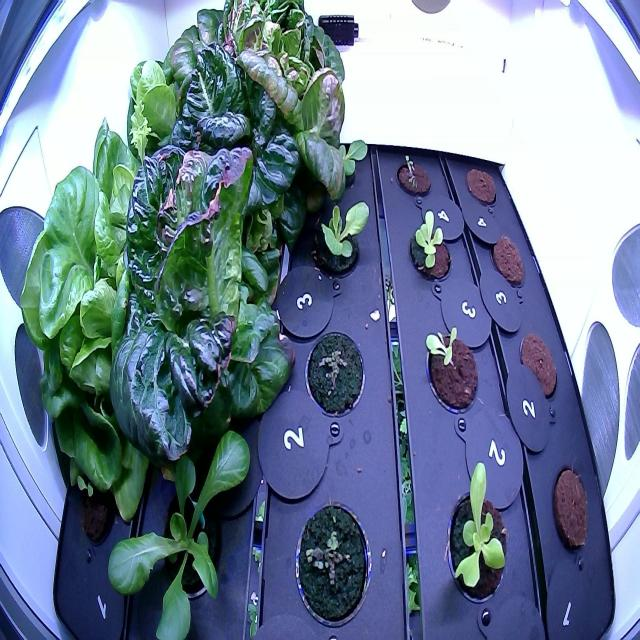Ready: (89, 133, 304, 463), (14, 130, 169, 524), (122, 33, 308, 287), (168, 0, 352, 218), (78, 41, 179, 243)
germination: (288, 486, 375, 632), (302, 323, 368, 429), (70, 452, 122, 550), (394, 150, 434, 202)
pod: (548, 458, 592, 558), (516, 328, 562, 402), (488, 225, 528, 294), (461, 160, 501, 208)
young: (99, 415, 258, 640), (434, 452, 520, 618), (302, 191, 375, 288), (422, 315, 480, 419), (301, 118, 372, 200), (407, 200, 458, 292)
